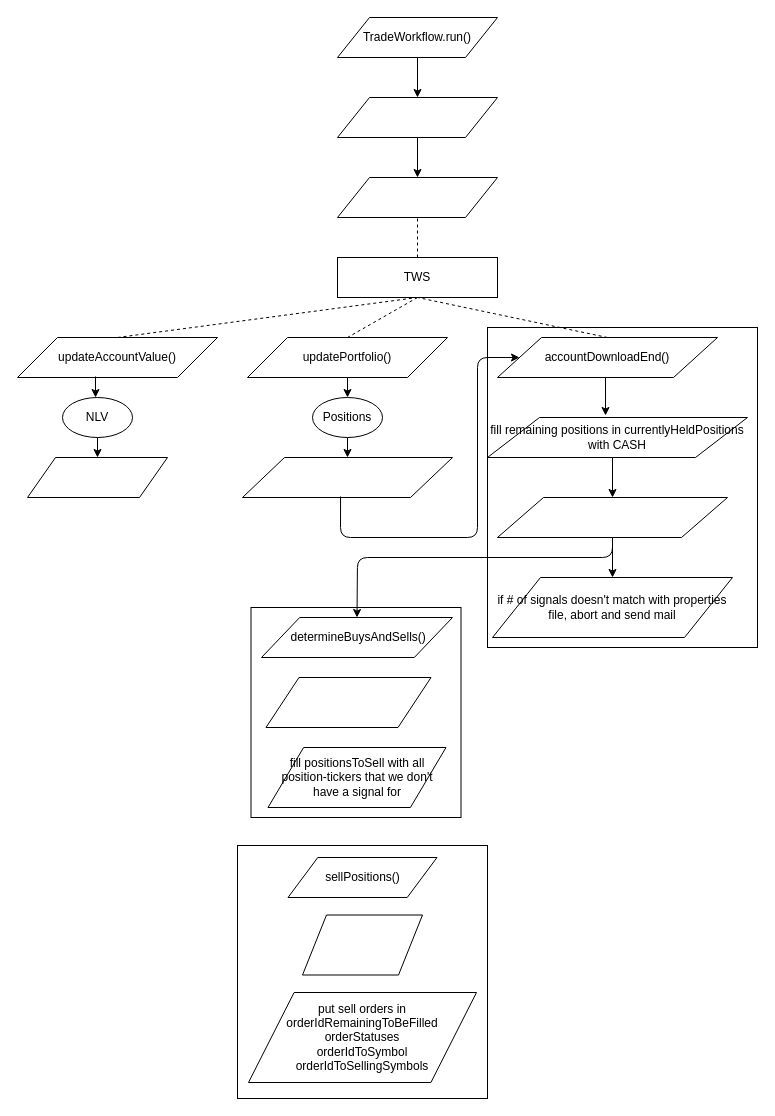
The diagram is 775 pixels wide and 1116 high, and some of its shapes have lost their labels. Here are the shapes that lost their labels. From the top down, the centre of each, then its label:
At pixel 417 117: "clear lists and maps".
At pixel 417 197: "reqAccountUpdates()".
At pixel 97 477: "set NLV".
At pixel 347 477: "add to currentlyHeldPositions".
At pixel 612 517: "readSignalsFromFile()".
At pixel 348 702: "remove already held positions from signals, put in signalsToBuys".
At pixel 362 944: "send orders of positionsToSell".
